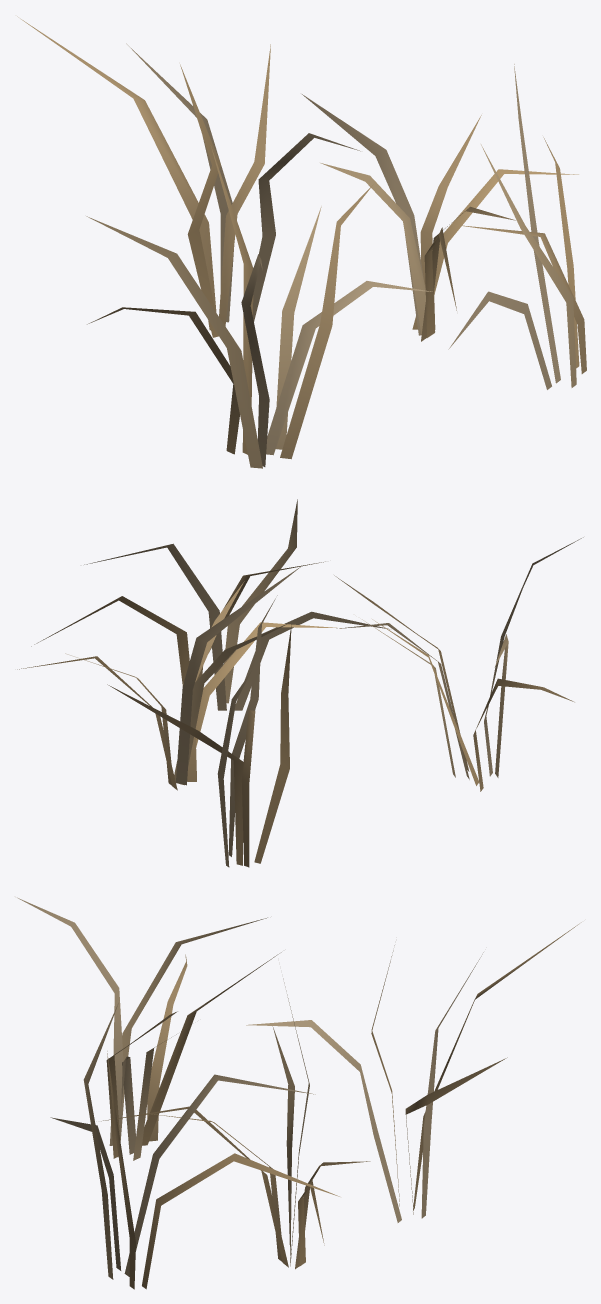
File: Grass_f_OneS_06.fbx
The picture shows the model from 3 angles, top to bottom: view 1: azimuth 30°, elevation 25°; view 2: azimuth 150°, elevation 25°; view 3: azimuth 270°, elevation 25°; orthographic projection. The views are drawn at different scales.
Visible parts, largest first — view 1: Grass_f_OneS_06; view 2: Grass_f_OneS_06; view 3: Grass_f_OneS_06.
Boxes of the visible parts, x1,y1,x2,y2 form: Grass_f_OneS_06: (17,16,586,468); Grass_f_OneS_06: (17,499,583,867); Grass_f_OneS_06: (17,897,581,1289).
Size of the model in its own units: 88.71 by 43.01 by 84.86.
